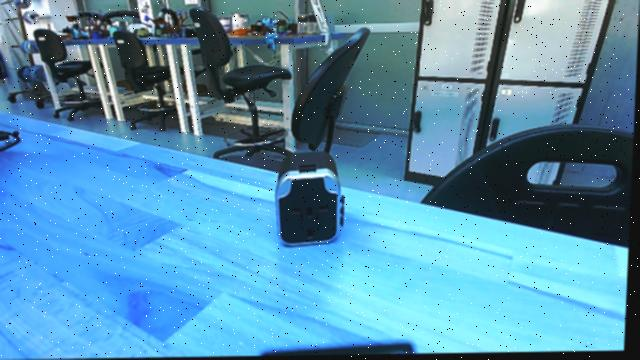adapter: (269, 146, 353, 254)
